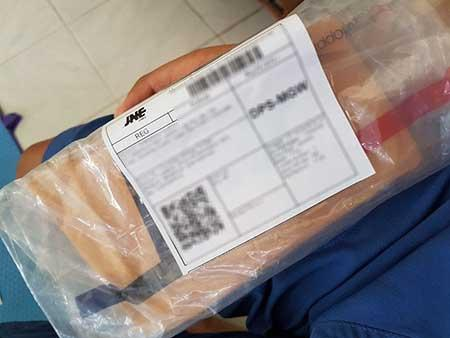undamaged: (0, 1, 448, 336)
